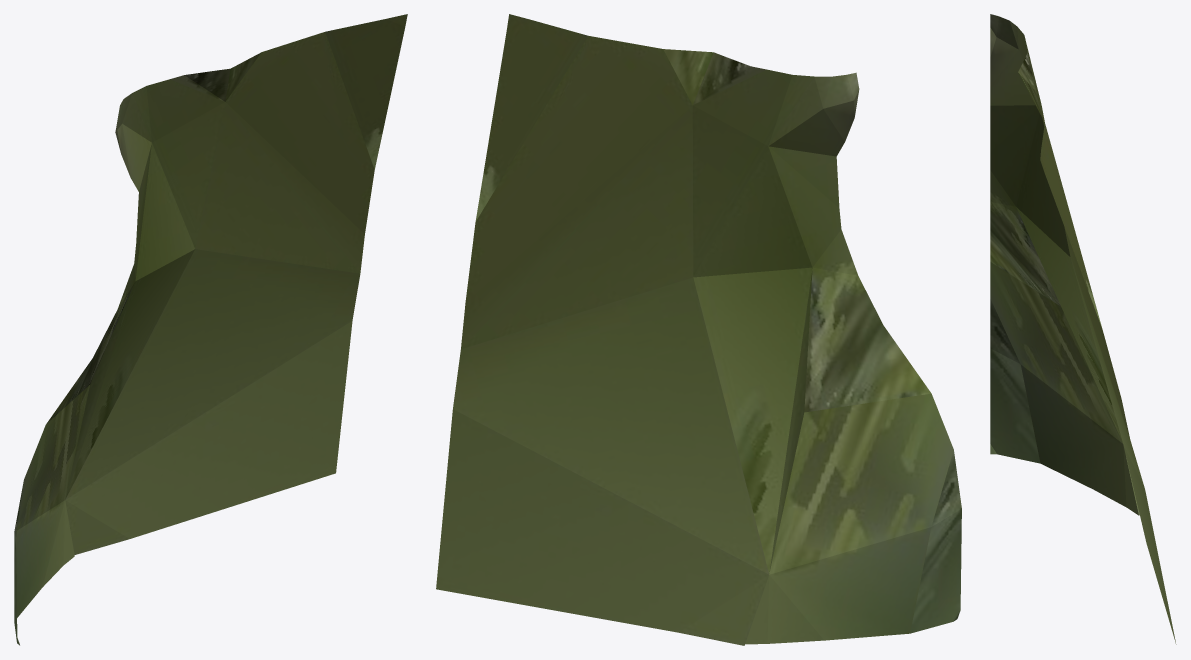
3 views of the same model, side by side, from view 1: azimuth 30°, elevation 25°; view 2: azimuth 150°, elevation 25°; view 3: azimuth 270°, elevation 25° (orthographic). The views are drawn at different scales.
Bounding box in the file's own units: 2.52 × 2.95 × 1.02.
2 materials, 2 textured.
